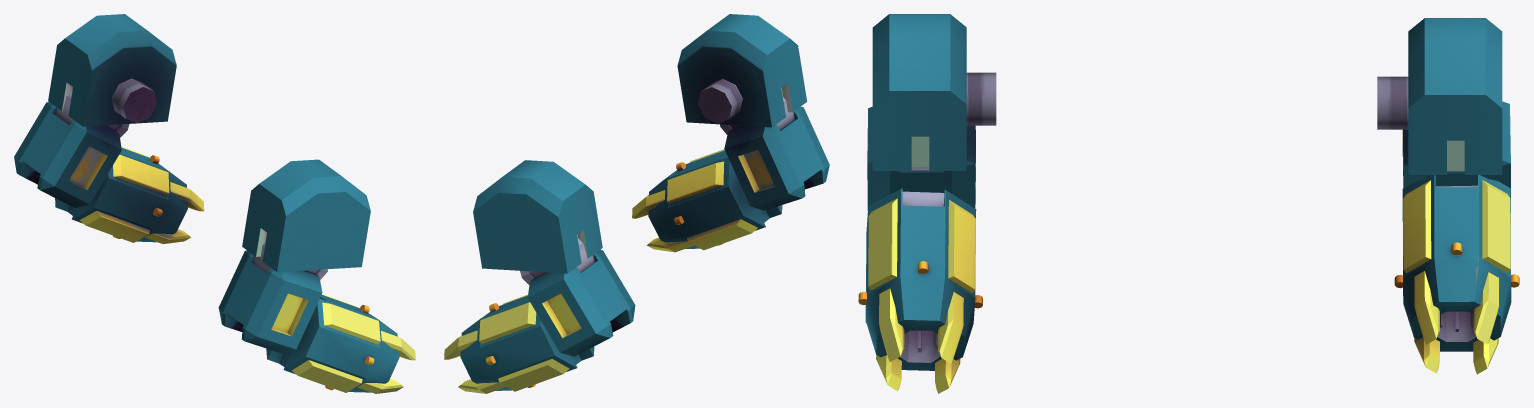
File: Player_Move_Arm14.obj
3 renders of one model, left to right at view 1: azimuth 30°, elevation 25°; view 2: azimuth 150°, elevation 25°; view 3: azimuth 270°, elevation 25°, orthographic. The views are drawn at different scales.
Parts seen in each view (by area): view 1: Object003, Object005, Object001, Object007, Object006, Object002; view 2: Object003, Object005, Object001, Object007, Object006, Object002; view 3: Object001, Object007, Object005, Object003, Object002, Object006.
Boxes of the visible parts, x1=… form: Object003: x1=242, y1=159, x2=370, y2=272; Object005: x1=48, y1=14, x2=176, y2=126; Object001: x1=266, y1=294, x2=415, y2=393; Object007: x1=55, y1=146, x2=204, y2=243; Object006: x1=14, y1=91, x2=129, y2=208; Object002: x1=218, y1=242, x2=327, y2=353; Object003: x1=677, y1=14, x2=807, y2=127; Object005: x1=473, y1=160, x2=602, y2=273; Object001: x1=632, y1=149, x2=782, y2=252; Object007: x1=444, y1=294, x2=594, y2=393; Object006: x1=520, y1=238, x2=635, y2=356; Object002: x1=720, y1=97, x2=829, y2=210; Object001: x1=858, y1=188, x2=982, y2=393; Object007: x1=1394, y1=175, x2=1519, y2=374; Object005: x1=1377, y1=18, x2=1502, y2=174; Object003: x1=872, y1=14, x2=996, y2=170; Object002: x1=867, y1=106, x2=975, y2=210; Object006: x1=1402, y1=101, x2=1510, y2=198.
Bounding box in the file's own units: 35.7 × 45.11 × 83.7.
1 material, 1 textured.
